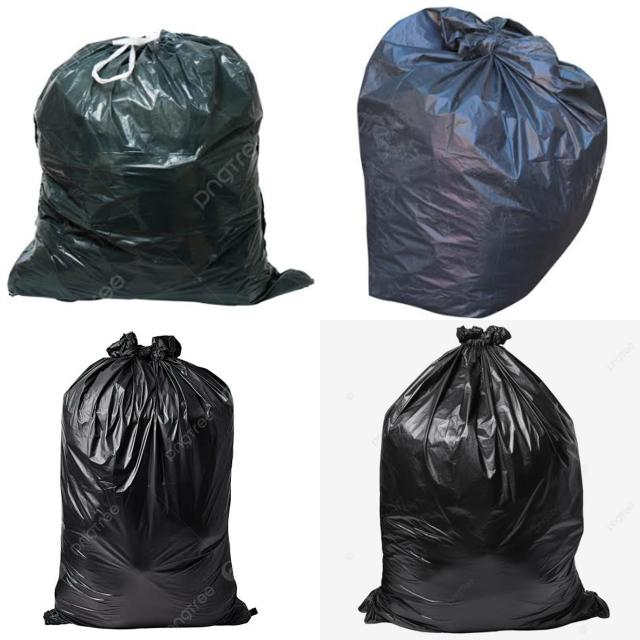Single-layer Plastic: (9, 31, 312, 305), (358, 8, 606, 318), (360, 326, 606, 632), (45, 332, 251, 629)
